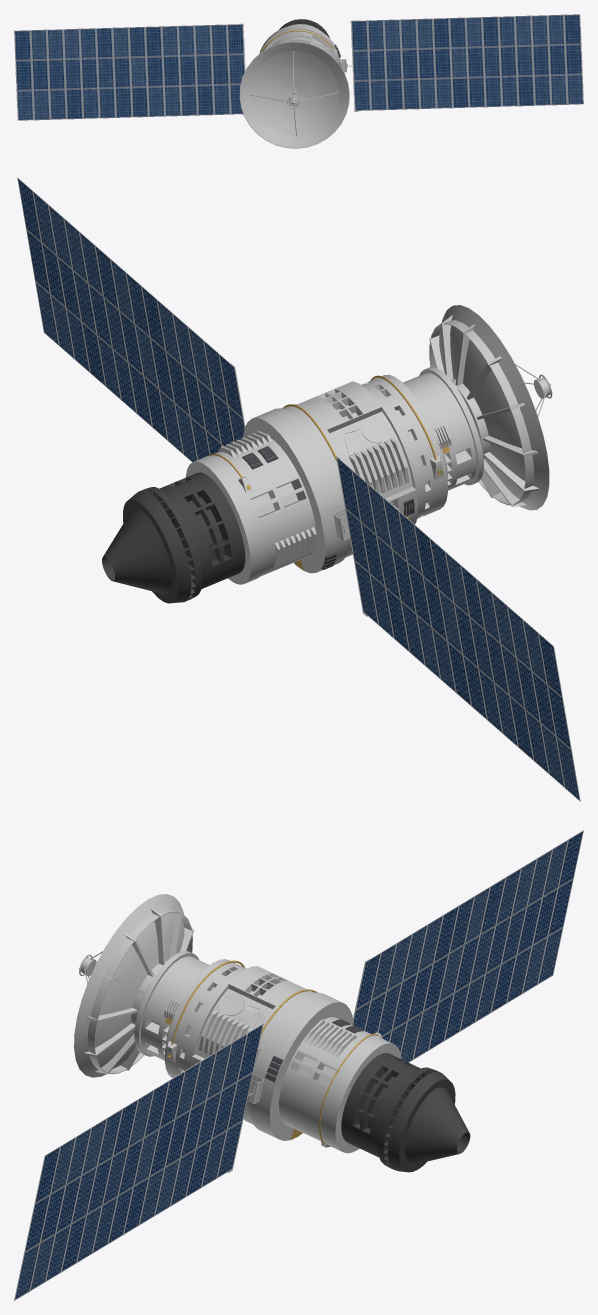
File: satellite-transformed.glb
3 views of the same model, one above another, from view 1: azimuth 30°, elevation 25°; view 2: azimuth 150°, elevation 25°; view 3: azimuth 270°, elevation 25° (orthographic). The views are drawn at different scales.
Parts seen in each view (by area): view 1: Object_56, Object_4, Object_6; view 2: Object_56, Object_4, Object_6, Object_5; view 3: Object_56, Object_4, Object_6, Object_5.
Part boxes in pixels (<box>): Object_56: <box>14,14,583,120</box>; Object_4: <box>239,20,358,148</box>; Object_6: <box>279,19,329,37</box>; Object_56: <box>17,177,580,801</box>; Object_4: <box>185,305,552,616</box>; Object_6: <box>102,472,245,603</box>; Object_5: <box>208,375,449,570</box>; Object_56: <box>14,830,583,1300</box>; Object_4: <box>74,894,401,1172</box>; Object_6: <box>341,1053,470,1172</box>; Object_5: <box>165,960,378,1143</box>.
Bounding box in the file's own units: 13.08 × 3.6 × 8.46.
Materials: 5 (1 with a texture image).
